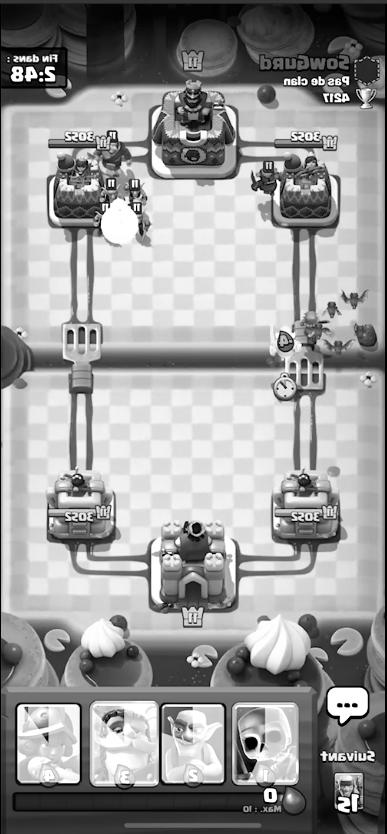bat: (338, 289, 372, 308), (325, 338, 350, 358), (309, 323, 331, 343), (322, 300, 342, 318), (352, 323, 367, 343)
chevalier: (95, 131, 125, 172)
gobelin: (99, 181, 121, 198), (126, 183, 145, 202)
mini_PEKKA: (249, 164, 278, 198)
valkyrie: (300, 308, 320, 343)
